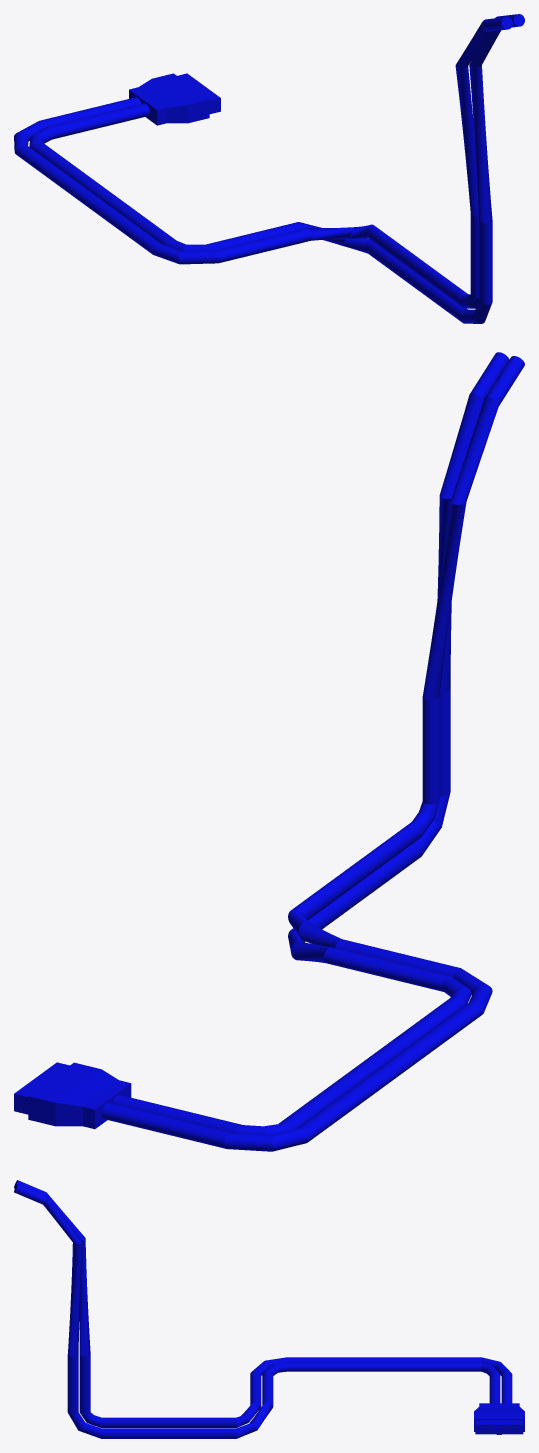
File: USB30Cable.001.fbx
The picture shows the model from 3 angles, top to bottom: view 1: azimuth 30°, elevation 25°; view 2: azimuth 150°, elevation 25°; view 3: azimuth 270°, elevation 25°; orthographic projection. The views are drawn at different scales.
Parts seen in each view (by area): view 1: USB30Cable.001; view 2: USB30Cable.001; view 3: USB30Cable.001.
Part boxes in pixels (x1=…): USB30Cable.001: x1=14, y1=14, x2=524, y2=323; USB30Cable.001: x1=14, y1=352, x2=524, y2=1151; USB30Cable.001: x1=14, y1=1180, x2=524, y2=1438.
Bounding box in the file's own units: 105 × 175 × 322.
